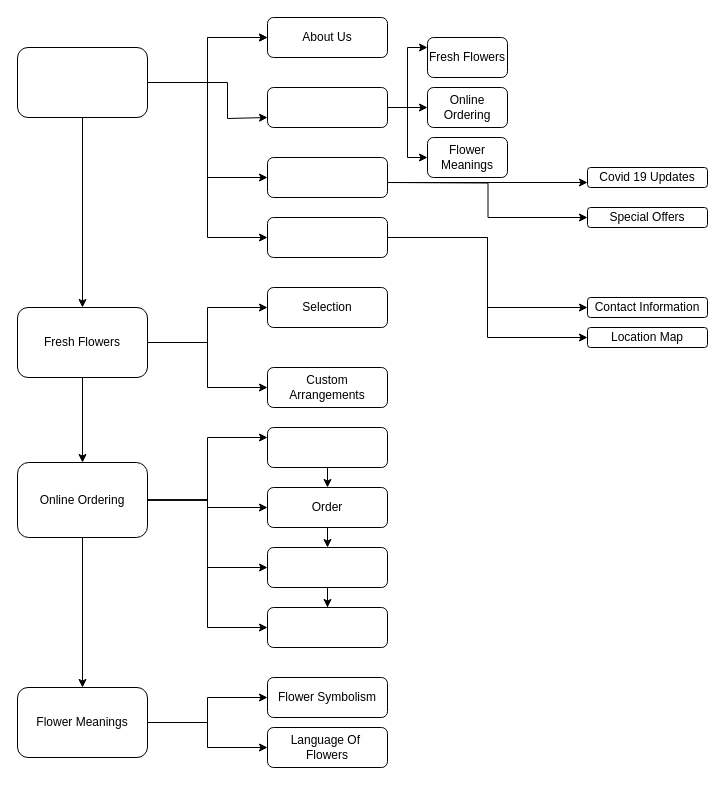
The diagram is 725 pixels wide and 785 high, and some of its shapes have lost their labels. Each missing label, with the centre of its shape:
"Announcments" goes at point (327, 177).
"Browse Catalog" goes at point (327, 447).
"Contact Us" goes at point (327, 237).
"Delivery Information" goes at point (327, 567).
"Home Page" goes at point (82, 82).
"Payment" goes at point (327, 627).
"Services" goes at point (327, 107).
